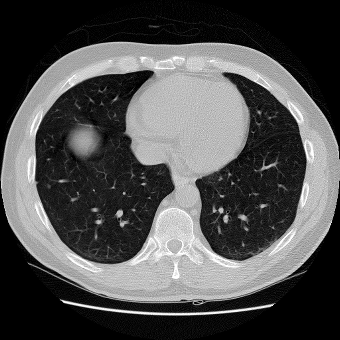nodule: (46, 184, 50, 188)
